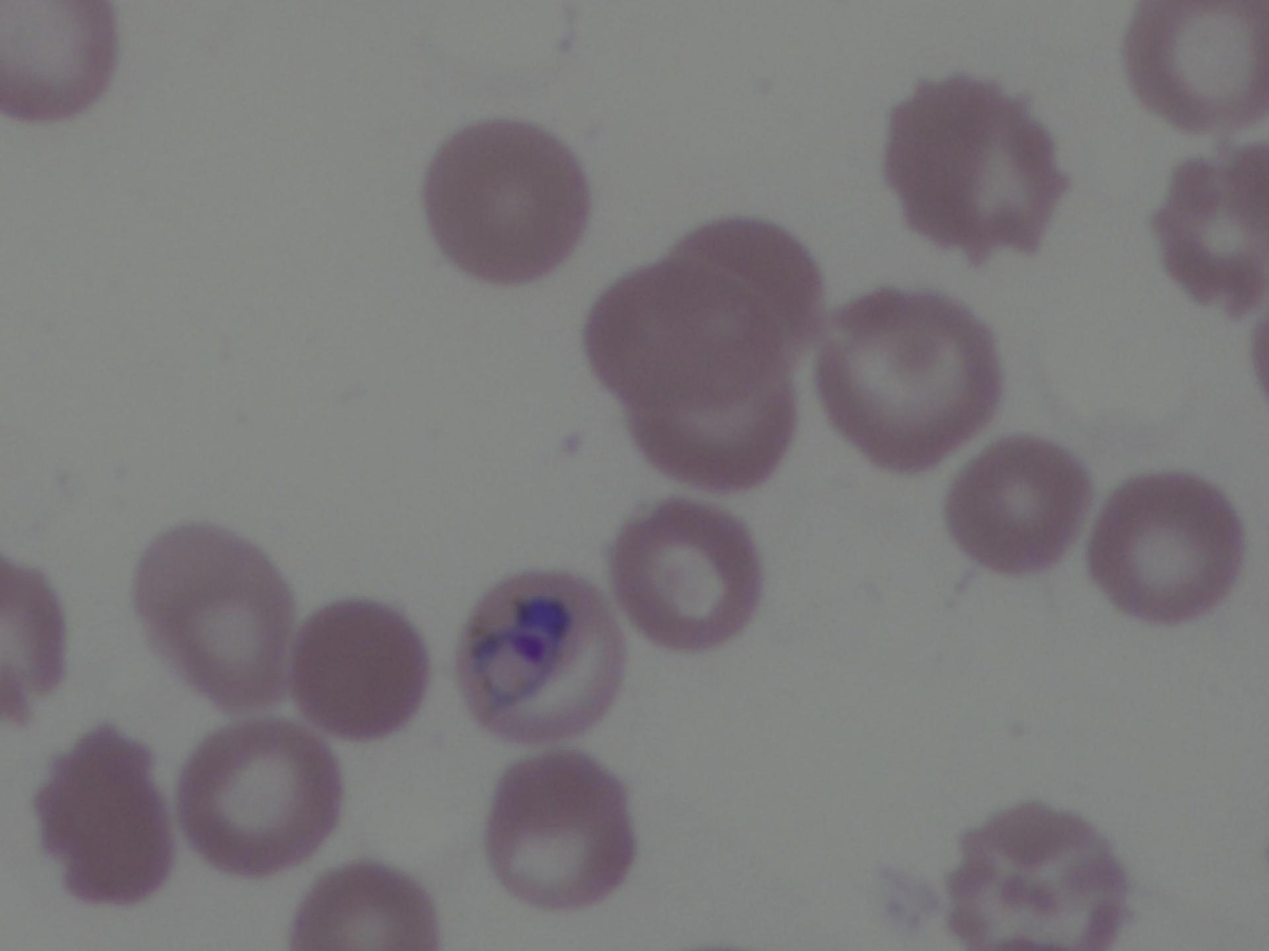Infected: (452, 565, 627, 746)
Uninfected: (883, 76, 1063, 261), (824, 287, 1002, 473), (137, 521, 294, 709), (952, 798, 1132, 951), (430, 120, 595, 283), (172, 719, 344, 874), (582, 274, 777, 408), (1084, 468, 1245, 622), (35, 725, 173, 903), (663, 217, 824, 362), (489, 750, 634, 909), (614, 496, 759, 653), (626, 360, 795, 492), (286, 598, 435, 744), (950, 430, 1080, 571)
